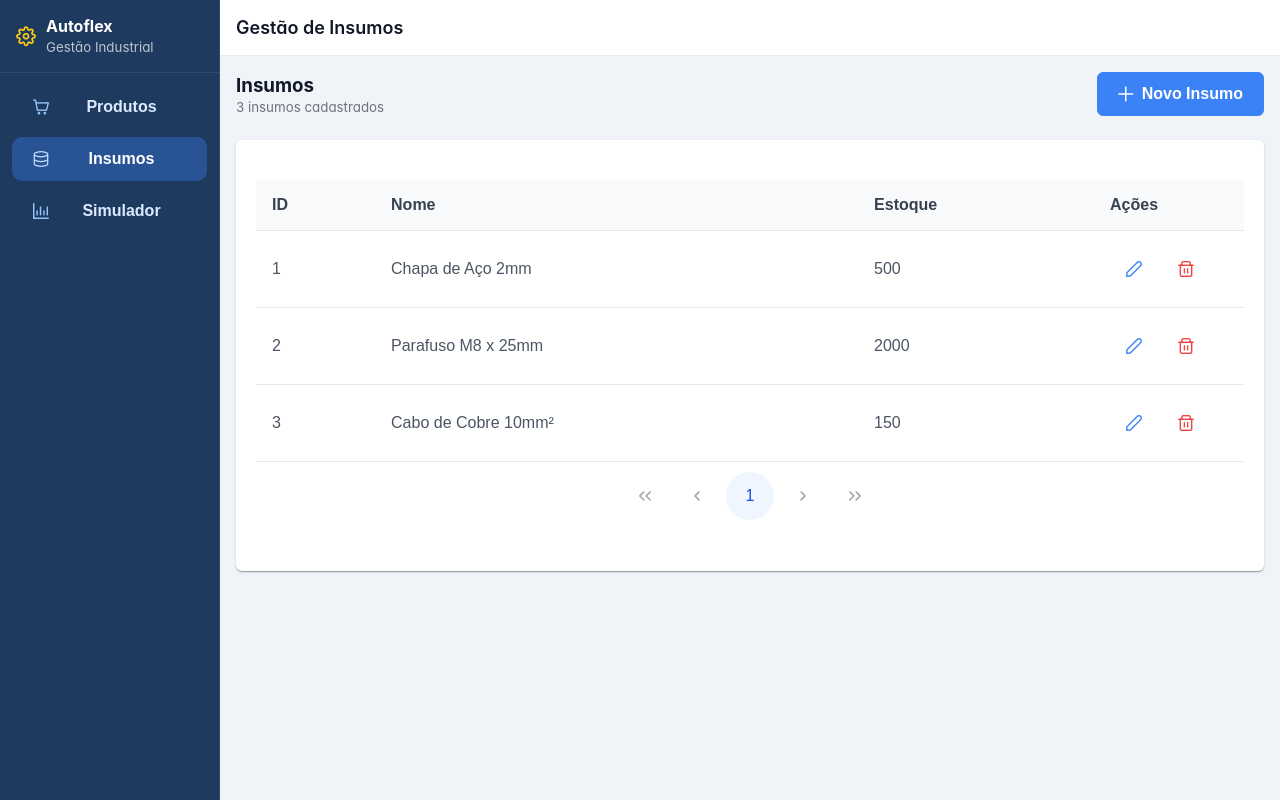
Scenario: Raw Materials › edits a raw material
This screenshot has width=1280, height=800.
Click the 1st button with test id "edit-button": coordinates (1134, 269) [1110,247,1158,291]
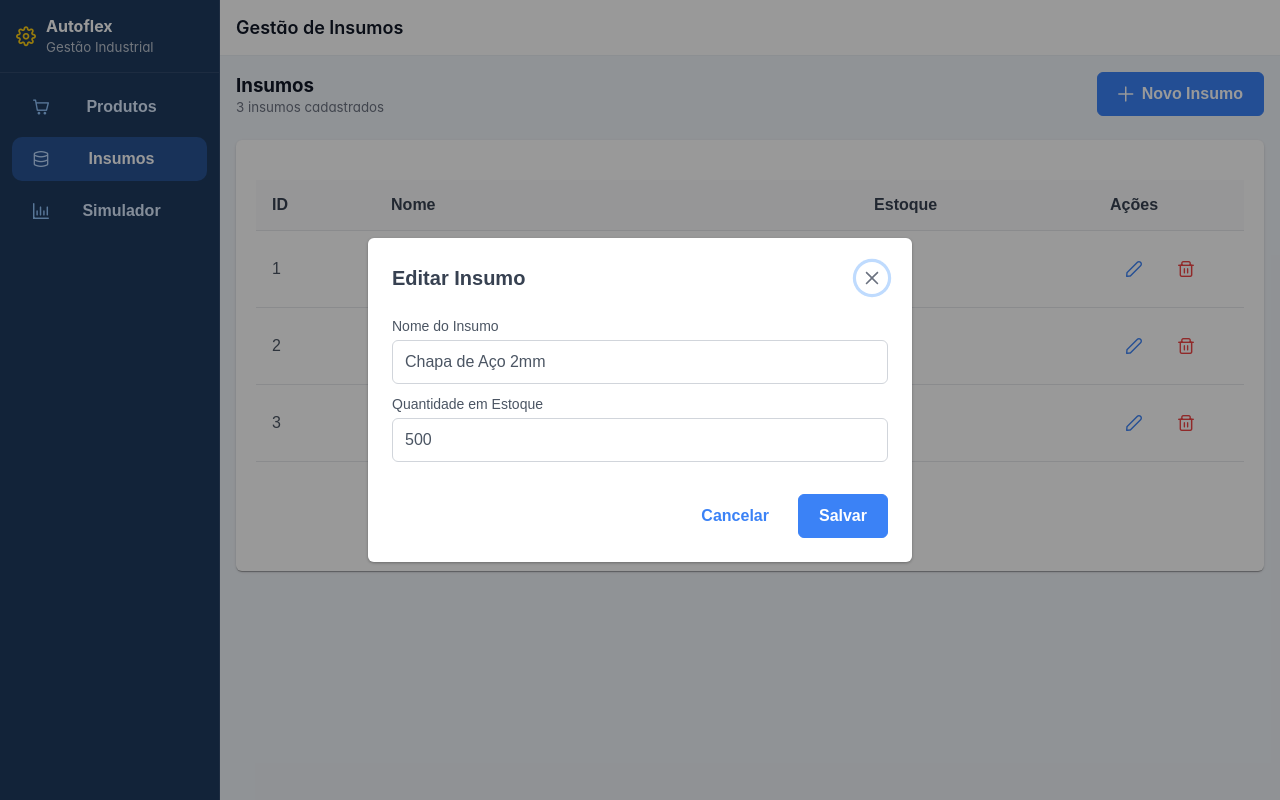
Now the text "Editar Insumo" is shown, box [392,266,525,290]
Replace the text in the field with test id "name-input" with "[E2E] Insumo Cypress Editado": coordinates (640, 362) [392,340,888,384]
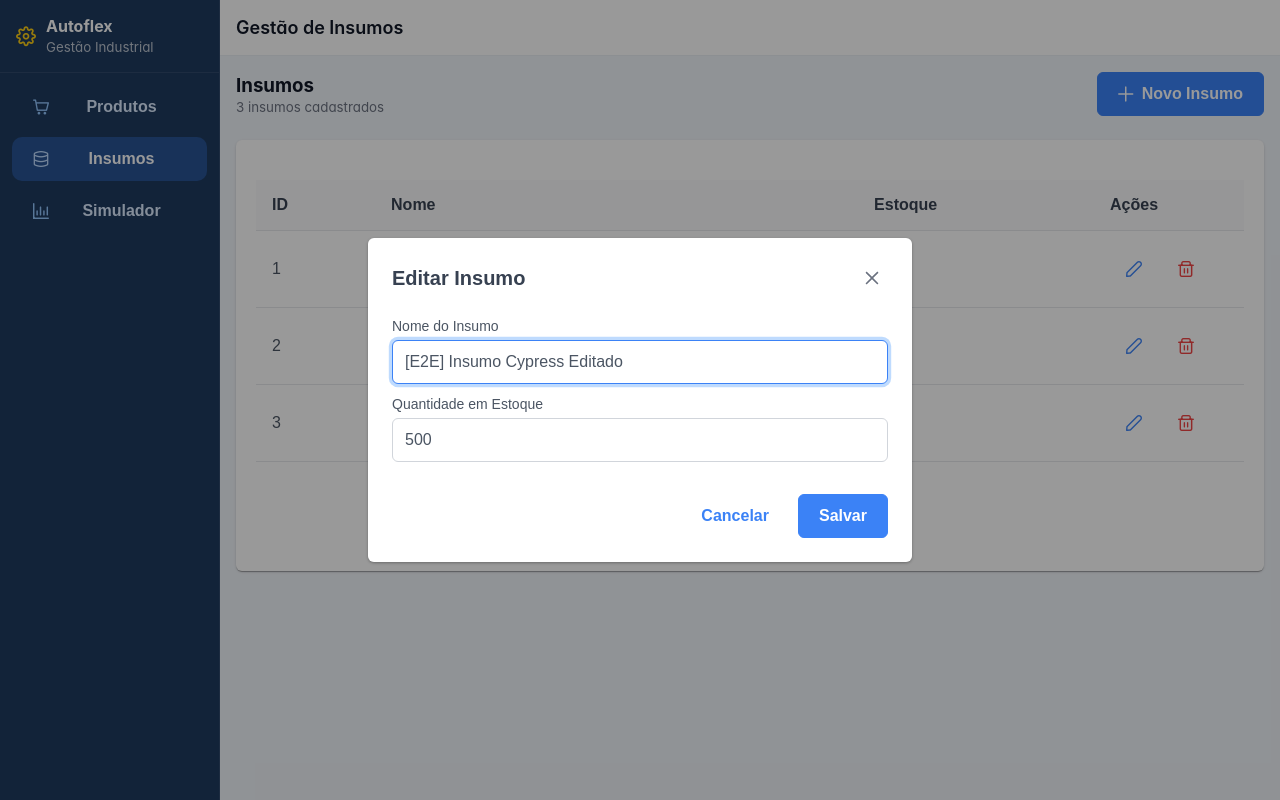
Click the button with test id "modal-ok-button": coordinates (843, 516) [798,494,888,538]
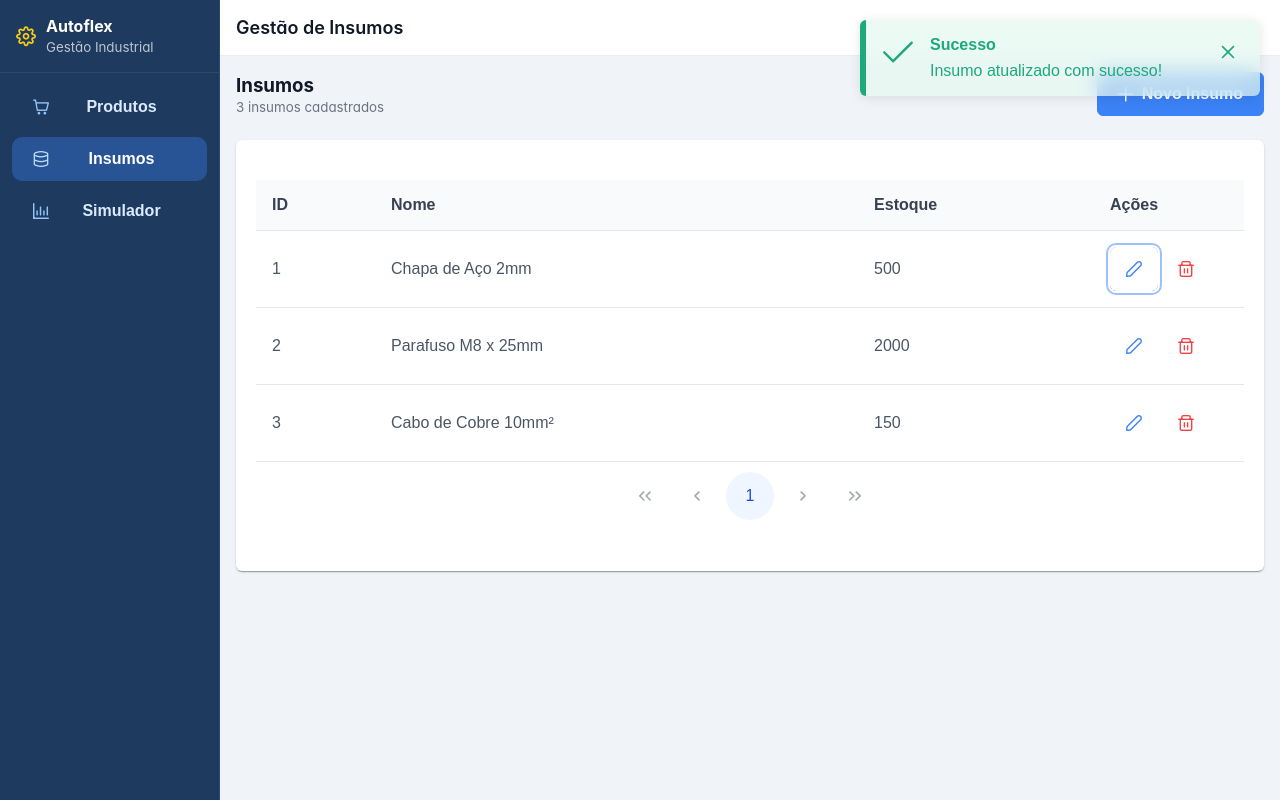
Now the text "Insumo atualizado com sucesso" is shown, box [930,62,1162,79]
